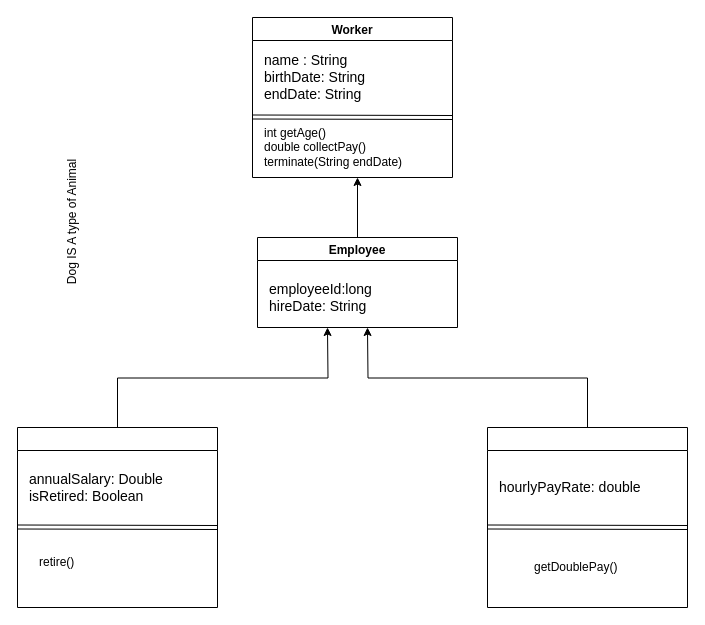
Image size: 705x625. Some labels were removed from this diagram. Here are the shapes that lost their labels. From the top down, the box of each, then its label:
(16, 426, 218, 608): SalariedEmployee
(486, 426, 688, 608): Hourly Employee
